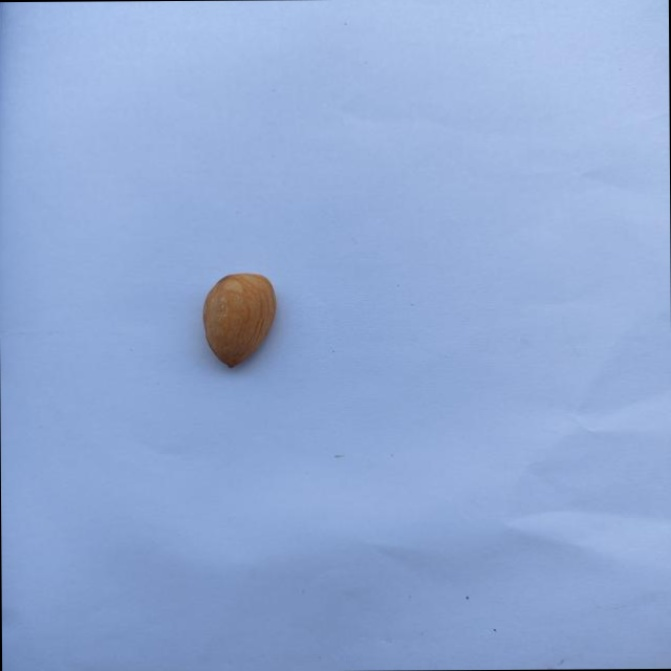grade2: (199, 270, 284, 371)
